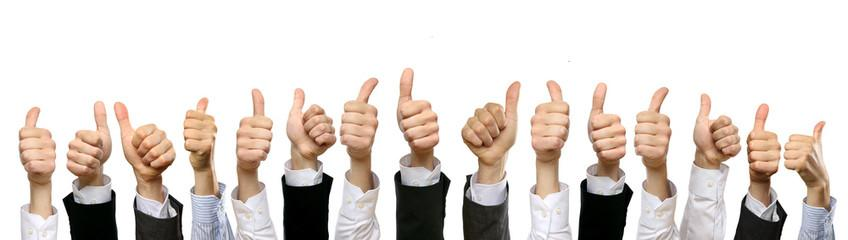thumbsup: (113, 102, 178, 170), (462, 81, 521, 149), (397, 68, 440, 152), (693, 93, 743, 163), (66, 101, 111, 177), (588, 82, 628, 162), (339, 77, 380, 151), (290, 87, 338, 150), (235, 88, 274, 163), (633, 87, 673, 159), (531, 80, 571, 151), (18, 107, 57, 174), (747, 103, 782, 176), (784, 120, 827, 171), (183, 97, 219, 153)
